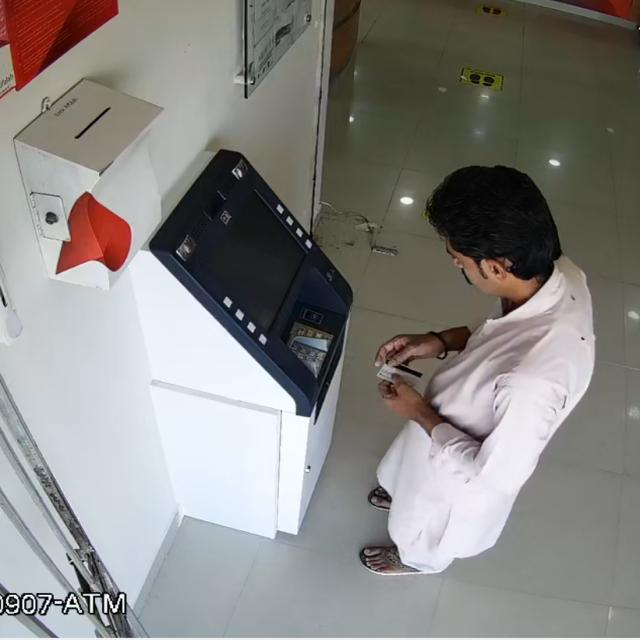atm-card: (361, 353, 432, 396)
